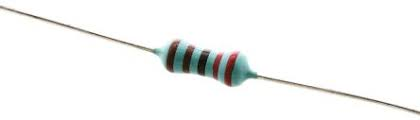resistor: (126, 34, 275, 90)
